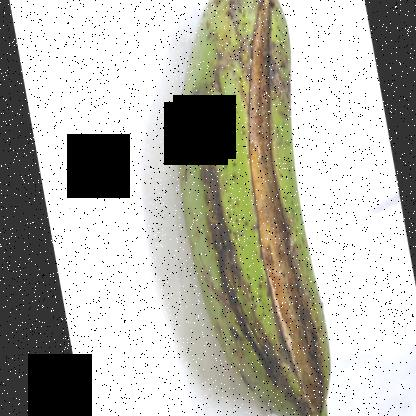rotten: (218, 1, 344, 409)
unripe: (178, 1, 244, 399)
